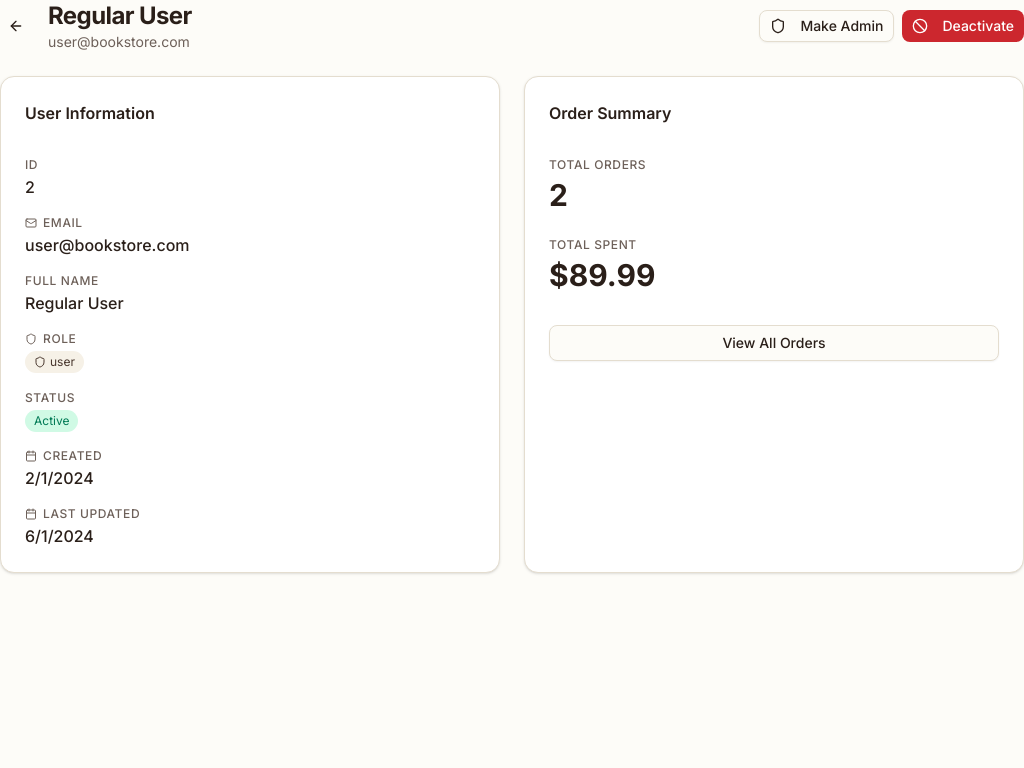
Test case: UserDetailPage › should open deactivate dialog
This screenshot has width=1024, height=768.
Click the button "Deactivate" at (963, 26), box [902,10,1023,42]
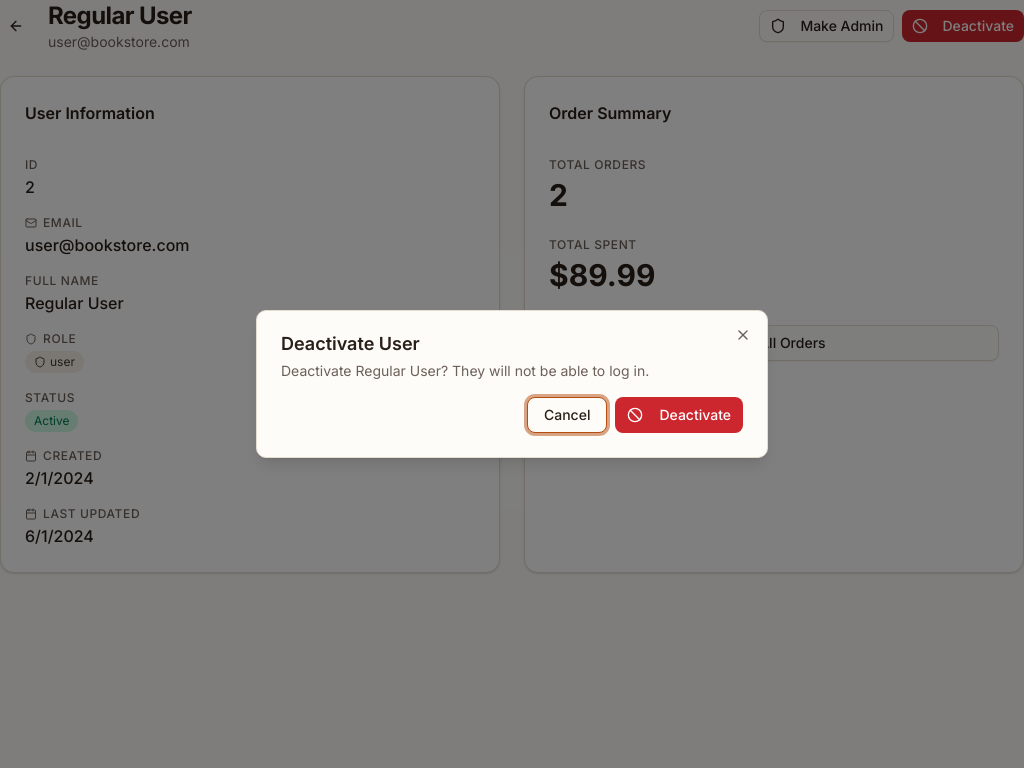
Expected: the heading "Deactivate User" is shown, [281,333,420,354]
Expected: the text "Deactivate Regular User? They will not be able to log in." is shown, [281,362,649,379]
